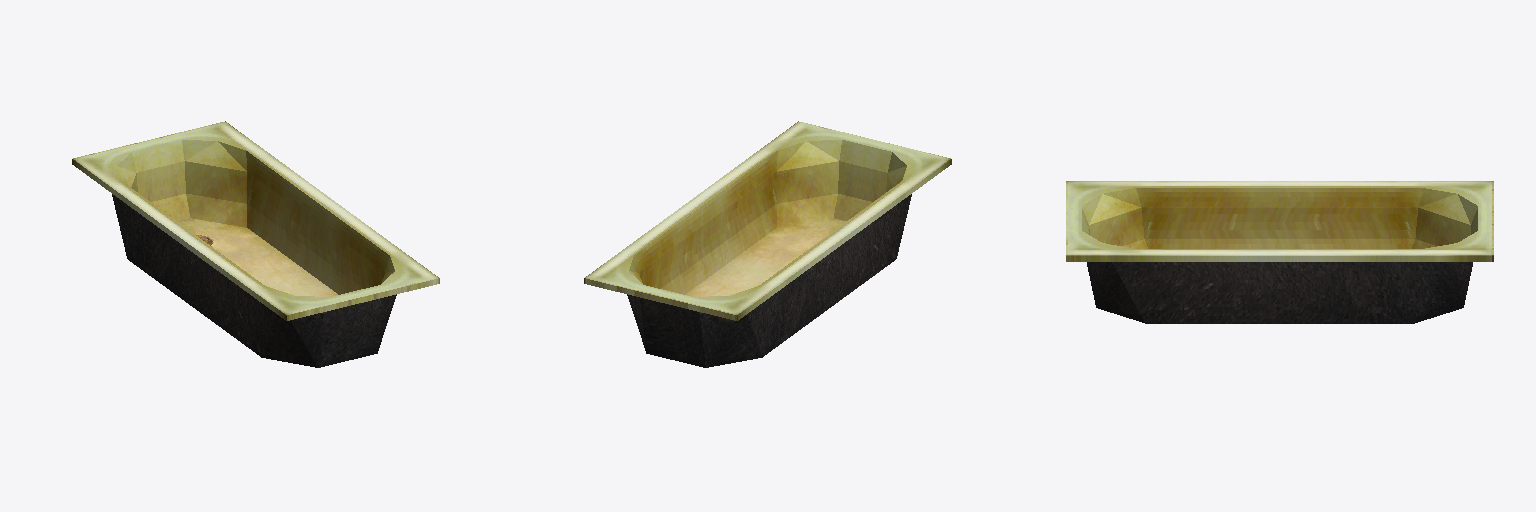
3 views of the same model, side by side, from view 1: azimuth 30°, elevation 25°; view 2: azimuth 150°, elevation 25°; view 3: azimuth 270°, elevation 25° (orthographic).
Visible parts, largest first — view 1: Bath; view 2: Bath; view 3: Bath.
Part boxes in pixels (left/top/right/bottom): Bath: left=72, top=121, right=439, bottom=367; Bath: left=584, top=121, right=951, bottom=367; Bath: left=1066, top=181, right=1493, bottom=323.
Size of the model in its own units: 2.79 by 1.31 by 6.75.
1 materials, 1 textured.